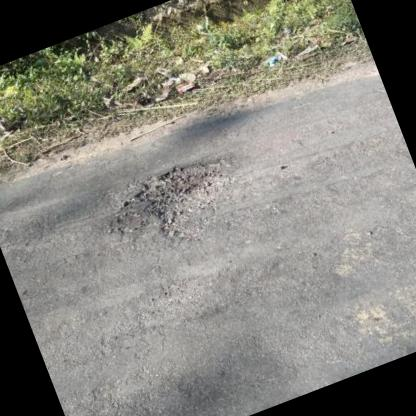pothole: (122, 145, 253, 249)
